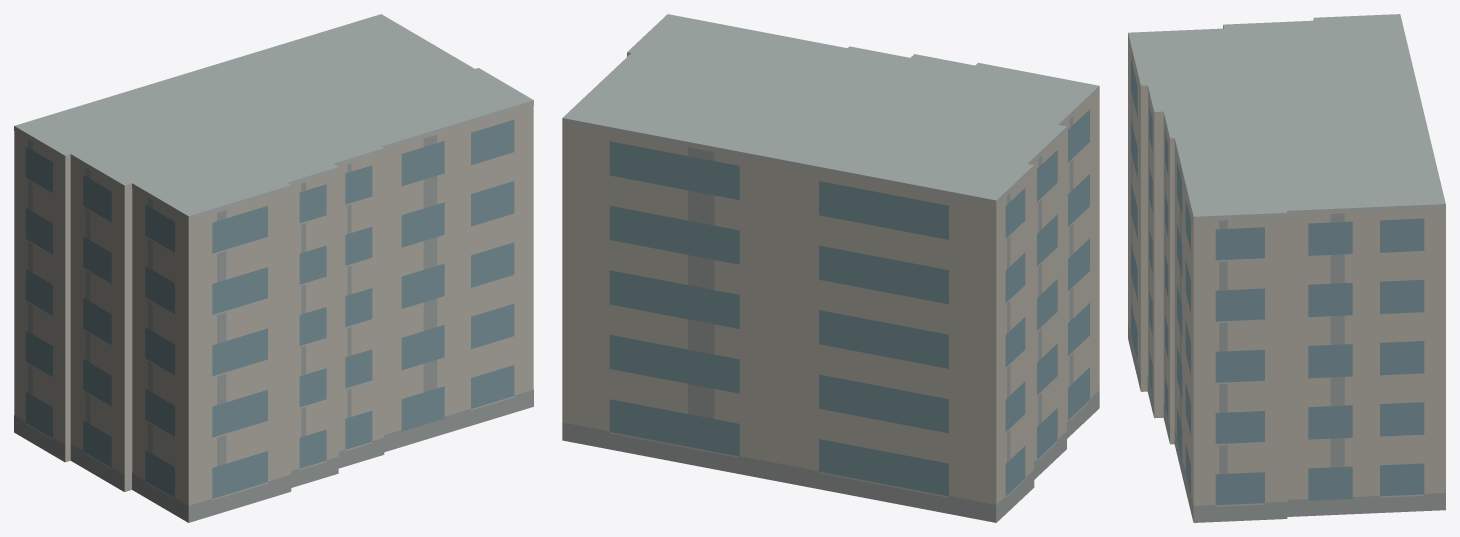
The model's file is residential-d63207cc-f817-4fb7-9c3d-f7448a069eaa.glb.
3 renders of one model, left to right at view 1: azimuth 30°, elevation 25°; view 2: azimuth 150°, elevation 25°; view 3: azimuth 270°, elevation 25°, orthographic. The views are drawn at different scales.
Visible parts, largest first — view 1: residential-d63207cc-f817-4fb7-9c3d-f7448a069eaa.tmp; view 2: residential-d63207cc-f817-4fb7-9c3d-f7448a069eaa.tmp; view 3: residential-d63207cc-f817-4fb7-9c3d-f7448a069eaa.tmp.
Boxes of the visible parts, x1,y1,x2,y2 form: residential-d63207cc-f817-4fb7-9c3d-f7448a069eaa.tmp: (14, 14, 533, 522); residential-d63207cc-f817-4fb7-9c3d-f7448a069eaa.tmp: (562, 14, 1099, 522); residential-d63207cc-f817-4fb7-9c3d-f7448a069eaa.tmp: (1128, 14, 1445, 522).
Bounding box in the file's own units: 20.89 × 14.7 × 13.84.
